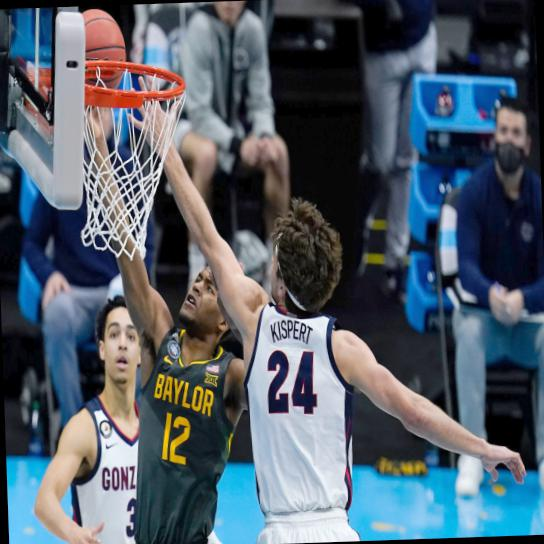basketball-hoop: (70, 48, 196, 264)
